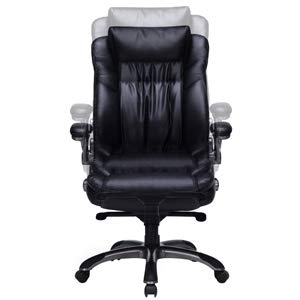chairs: (68, 11, 241, 296)
